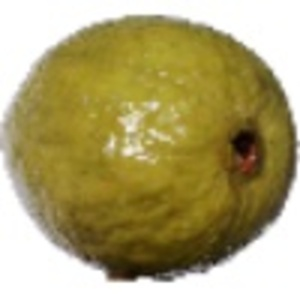goiaba: (1, 8, 297, 275)
